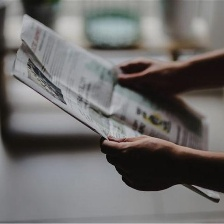news_paper: (8, 11, 224, 205)
